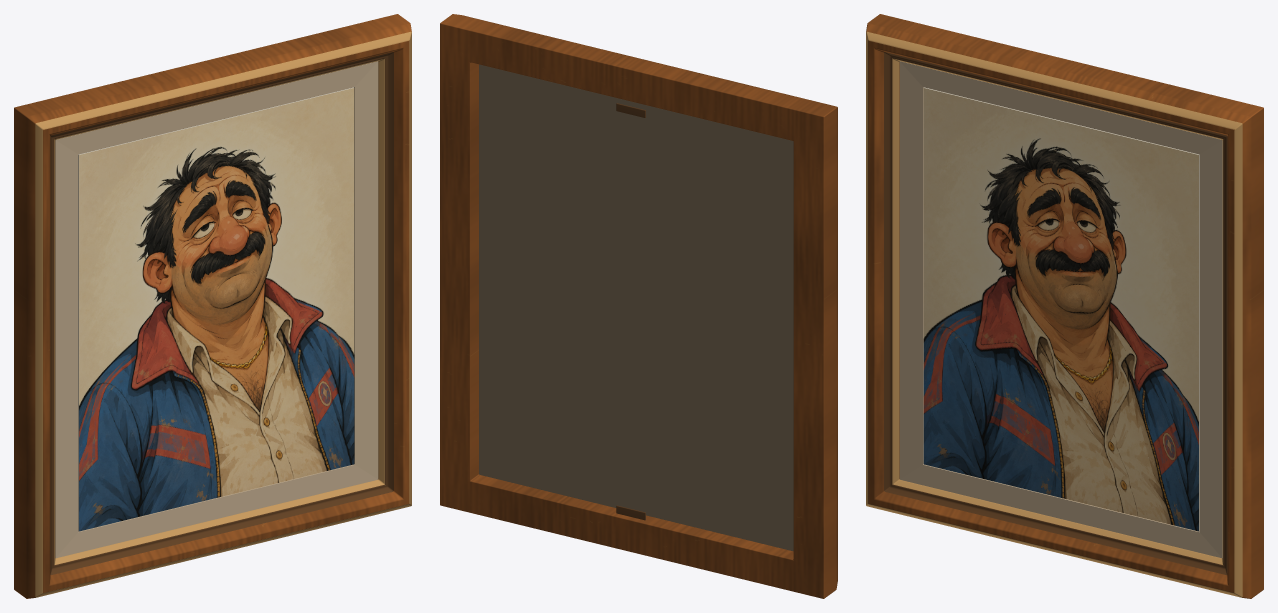
Rendered from assembled.glb.
3 views of the same model, side by side, from view 1: azimuth 30°, elevation 25°; view 2: azimuth 150°, elevation 25°; view 3: azimuth 330°, elevation 25° (orthographic).
Visible parts, largest first — view 1: thin_detachable_portrait_card, continuous_beveled_rectangular_wood_frame, persistent_ivory_inner_mat; view 2: persistent_plain_blank_backing, continuous_beveled_rectangular_wood_frame; view 3: thin_detachable_portrait_card, continuous_beveled_rectangular_wood_frame, persistent_ivory_inner_mat.
Part boxes in pixels (x1,y1,x2,y2): thin_detachable_portrait_card: [78, 87, 354, 531]; continuous_beveled_rectangular_wood_frame: [14, 14, 411, 598]; persistent_ivory_inner_mat: [55, 61, 378, 558]; persistent_plain_blank_backing: [479, 64, 793, 551]; continuous_beveled_rectangular_wood_frame: [440, 14, 837, 598]; thin_detachable_portrait_card: [923, 87, 1199, 531]; continuous_beveled_rectangular_wood_frame: [866, 14, 1263, 598]; persistent_ivory_inner_mat: [899, 61, 1222, 558].
Size of the model in its own units: 0.3 by 0.36 by 0.0295.
Materials: 7 (2 with a texture image).
